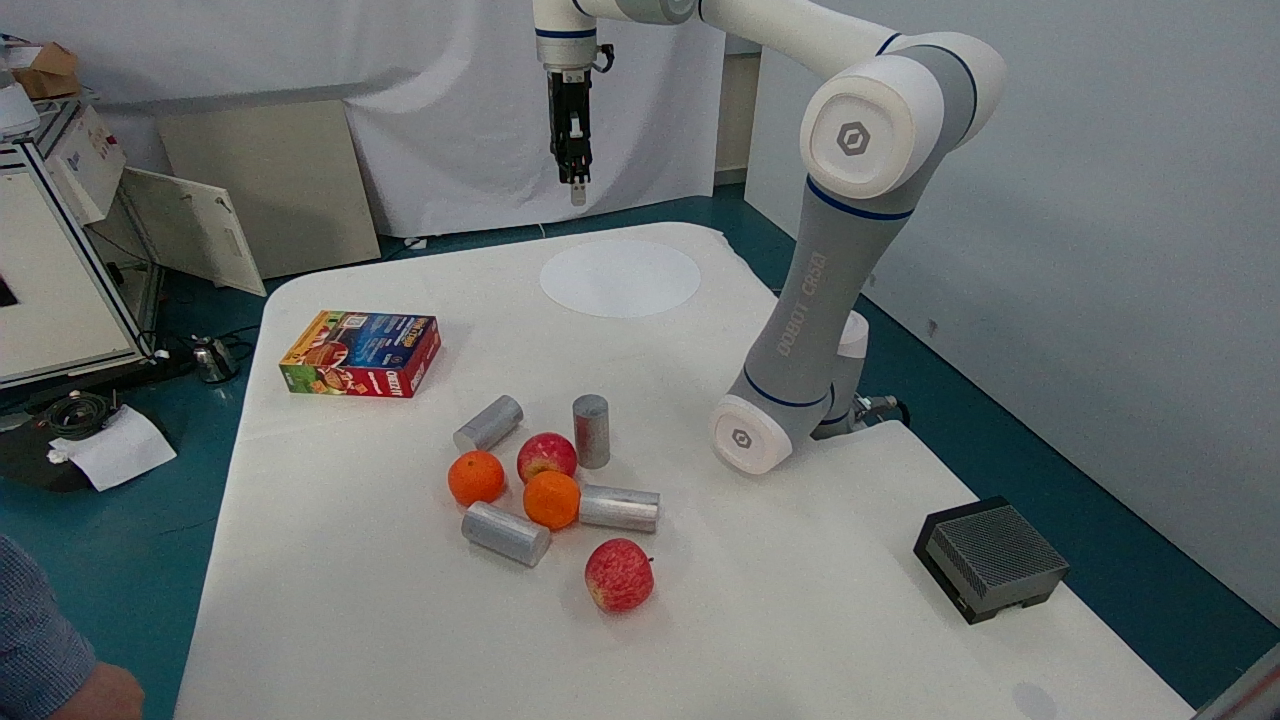apple: (576, 525, 656, 619), (508, 424, 585, 484)
metal rod: (450, 487, 560, 572), (442, 379, 531, 467), (572, 474, 671, 537), (556, 383, 621, 476)
orange: (509, 455, 590, 537), (432, 441, 520, 509)
